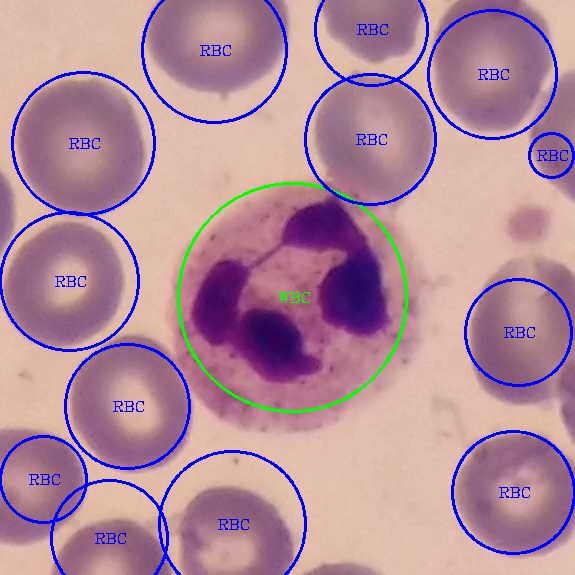RBC: (15, 72, 153, 220), (66, 329, 195, 476), (311, 69, 437, 214), (464, 251, 573, 413), (432, 0, 560, 134), (1, 218, 131, 349), (448, 427, 573, 563), (142, 1, 298, 103), (177, 482, 302, 574), (0, 425, 90, 549)
WBC: (168, 180, 431, 437)
